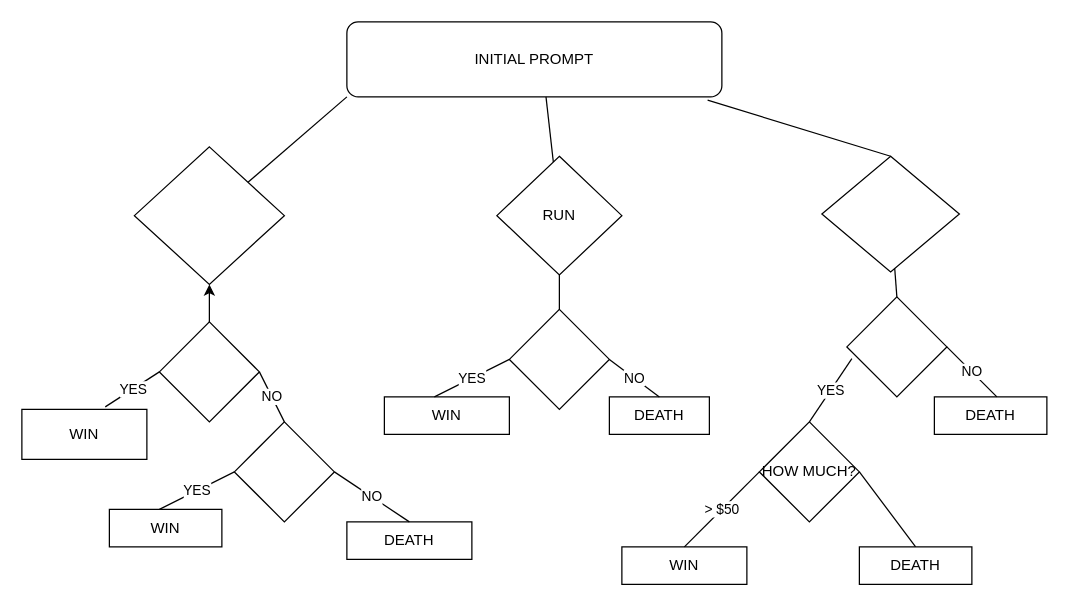
Some shapes in this 1069 by 606 pixel diagram are drawn without their labels. The shapes that lost their labels are listed below. From the top down, each one's centre as x and y in pixels, then its label:
At (208,215): "FIGHT".
At (890,213): "BRIBE".
At (558,358): "FAST?".
At (896,346): "MONEY?".
At (208,371): "SKILLED?".
At (283,471): "STRONG".
